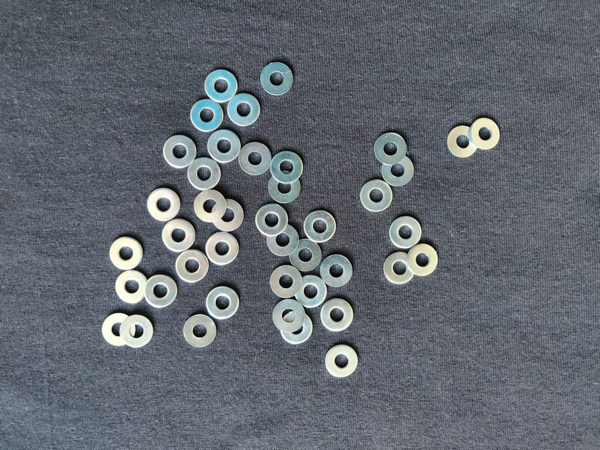circle: (181, 312, 221, 349), (237, 140, 275, 178), (387, 212, 424, 251), (206, 127, 243, 166), (373, 127, 409, 167), (108, 233, 144, 272), (259, 61, 296, 98), (324, 341, 361, 378), (445, 123, 482, 159), (319, 298, 356, 334), (185, 157, 223, 192), (286, 238, 324, 273), (228, 91, 264, 127), (119, 314, 155, 350), (278, 311, 314, 347), (319, 252, 355, 288), (147, 186, 182, 223), (204, 286, 239, 323), (304, 209, 341, 244), (265, 223, 302, 258), (383, 249, 417, 287), (160, 219, 198, 253), (382, 153, 417, 189), (359, 178, 394, 214), (101, 313, 137, 348), (174, 249, 210, 284), (144, 273, 177, 311), (189, 98, 225, 132), (205, 68, 239, 103), (205, 231, 240, 265), (255, 202, 289, 237), (269, 151, 305, 184), (212, 199, 248, 232), (268, 264, 302, 298), (293, 275, 327, 309), (162, 135, 197, 168), (271, 299, 305, 332), (193, 191, 228, 223), (114, 271, 149, 303), (407, 243, 438, 279), (269, 172, 302, 205), (471, 118, 501, 151)
